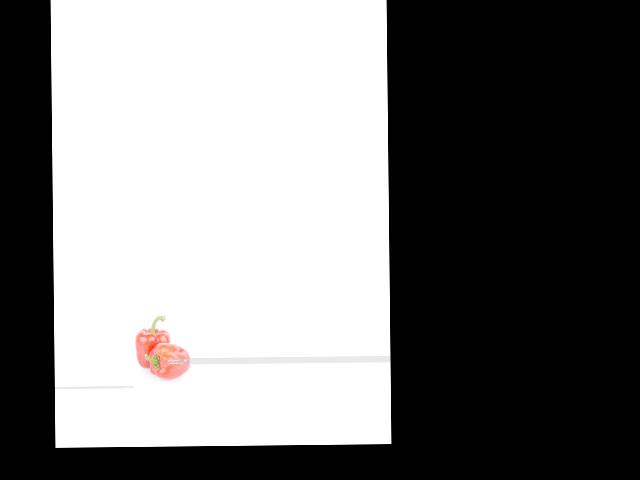bell_pepper: (145, 339, 195, 379)
